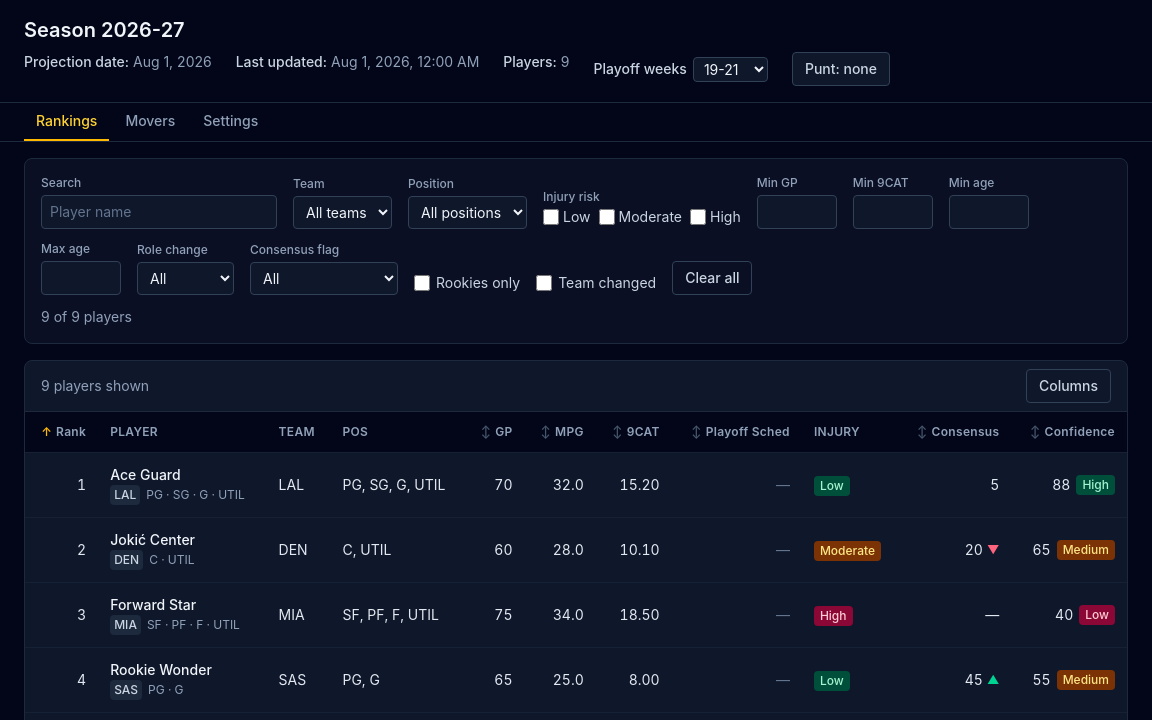
App › switching the playoff-window dropdown re-ranks the table and shows the recompute note, then reverts to the shipped order exactly
Expected: the text "Ace Guard" is shown, top-left (110, 466), bottom-right (181, 483)
Expected: the text "ranking recomputed for weeks" is not shown
Select "18-20" in the dropdown labelled "Playoff weeks" at (730, 69), box top-left (693, 56), bottom-right (768, 82)
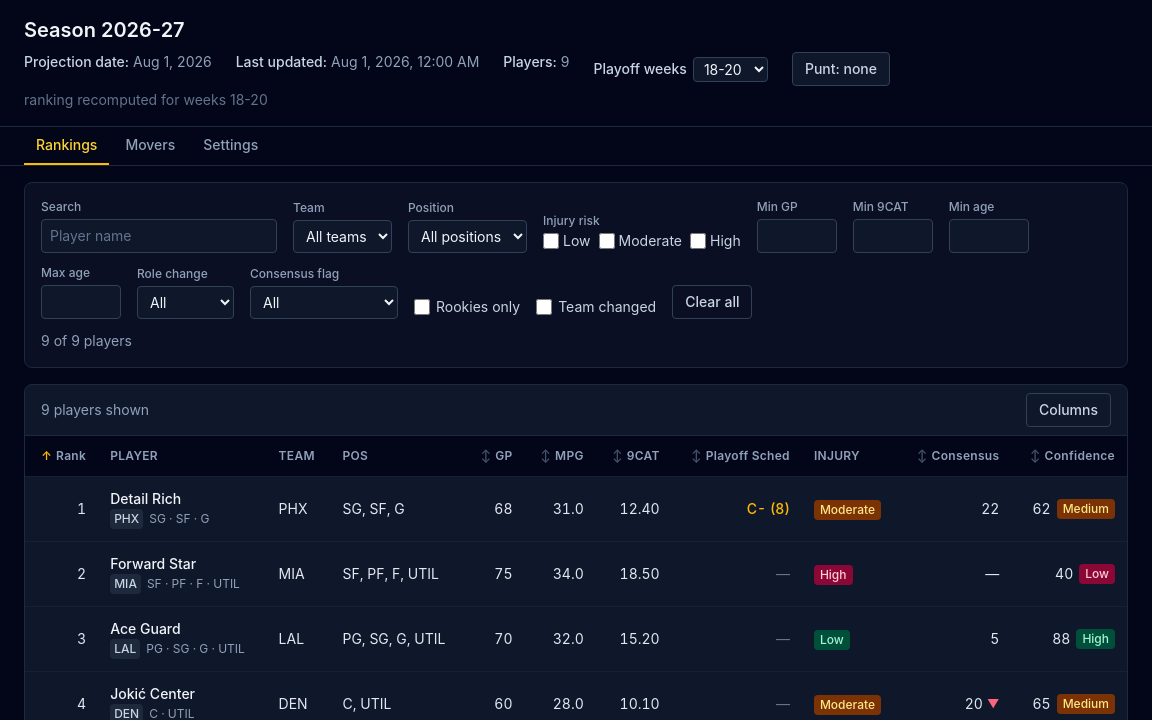
Expected: the text "Detail Rich" is shown, top-left (110, 490), bottom-right (181, 507)
Expected: the text "ranking recomputed for weeks 18-20" is shown, top-left (24, 91), bottom-right (268, 108)
Click the button "Columns".
click(1068, 410)  # box top-left (1026, 393), bottom-right (1111, 427)
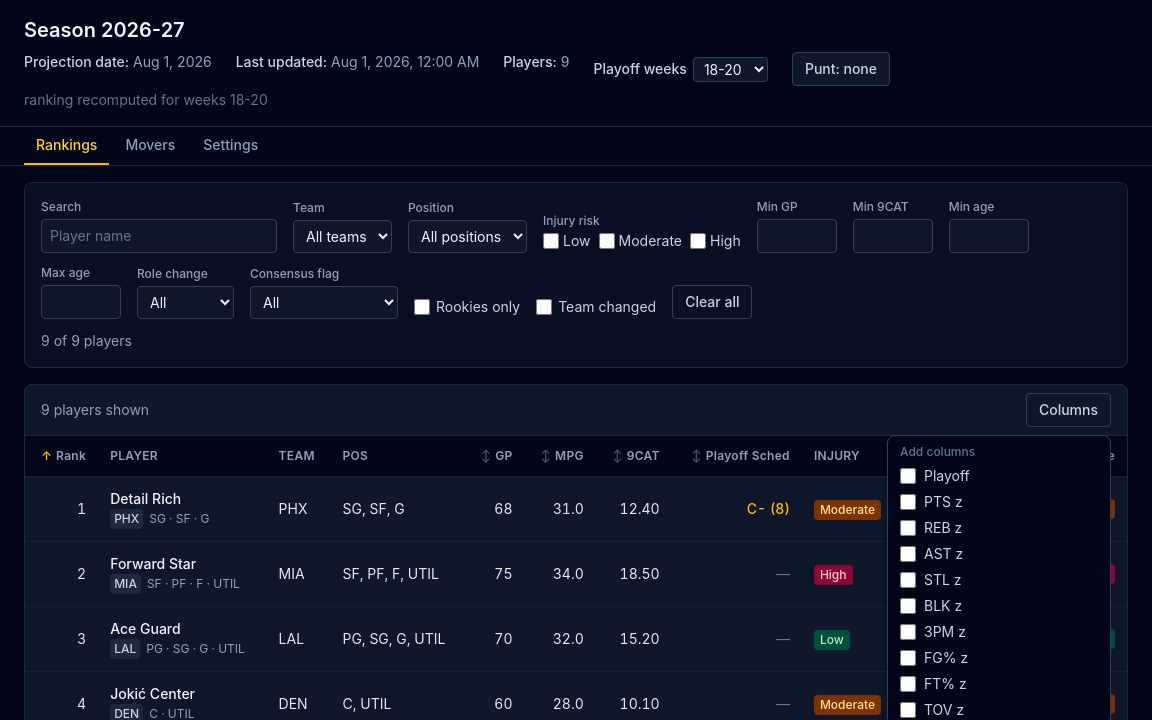
Click the checkbox labelled "Playoff".
click(908, 476)  # box top-left (900, 468), bottom-right (916, 484)
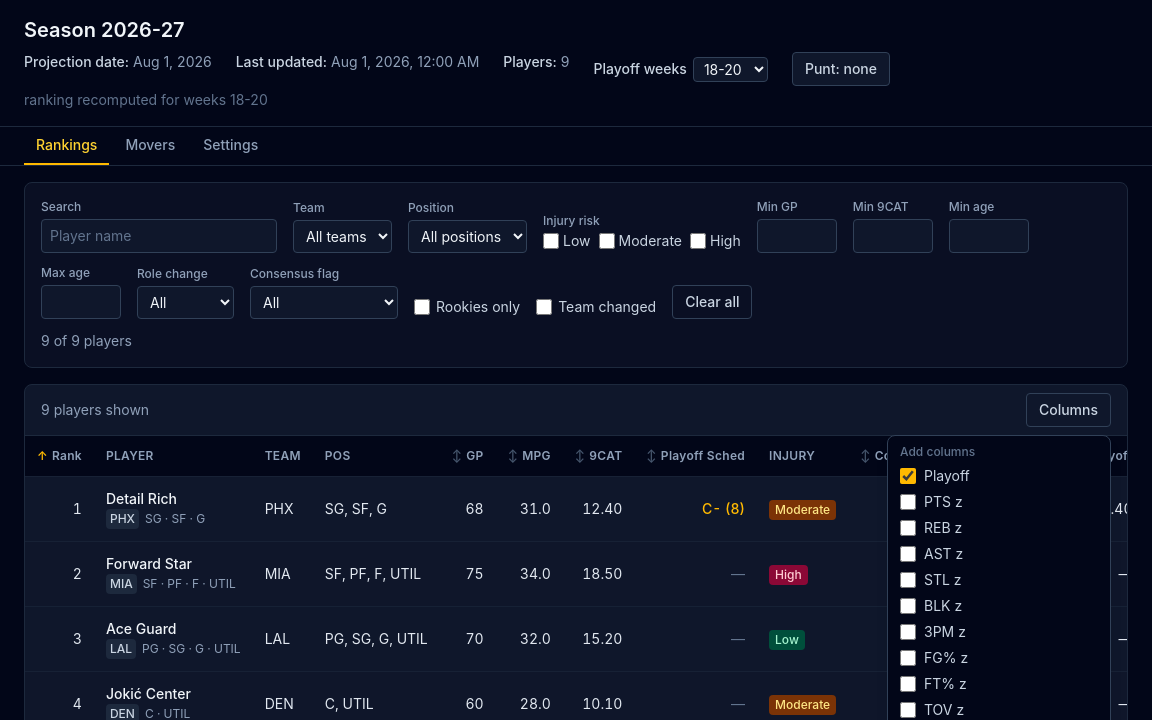
Expected: the cell "0.40" is shown, top-left (1063, 476), bottom-right (1127, 542)
// back to the shipped default -- exact original order restored, note gone
Select "19-21" in the dropdown labelled "Playoff weeks" at (730, 69), box top-left (693, 56), bottom-right (768, 82)
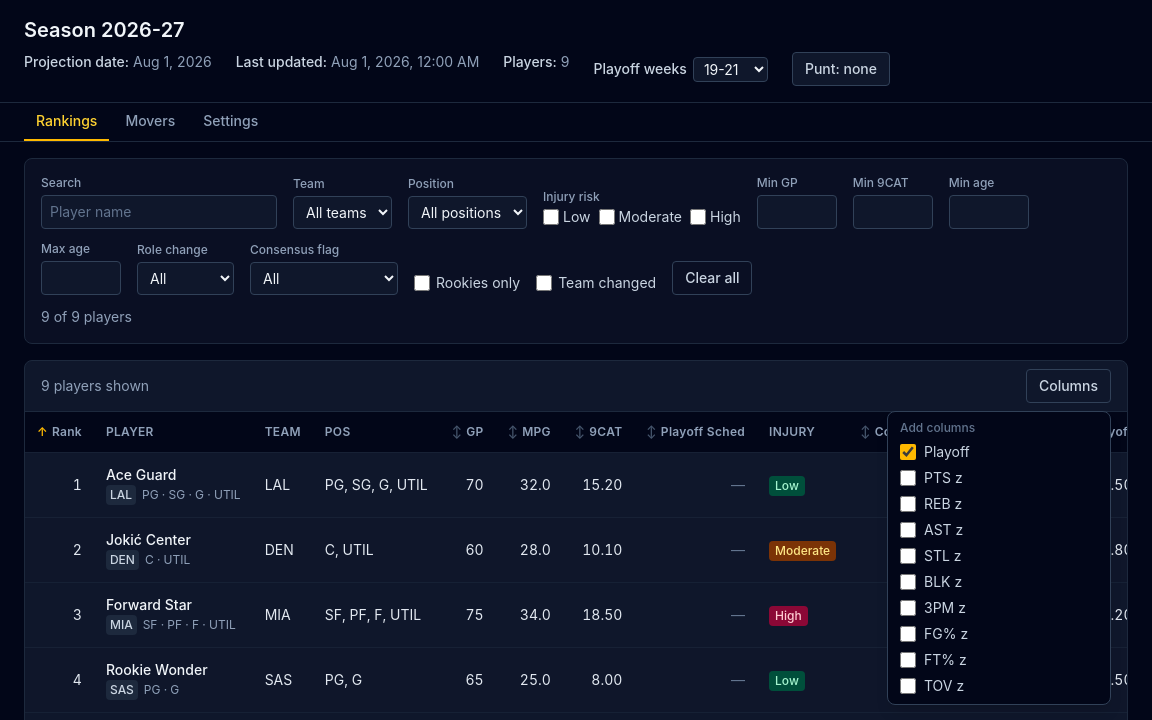
Expected: the text "Ace Guard" is shown, top-left (106, 466), bottom-right (176, 483)
Expected: the text "ranking recomputed for weeks" is gone
